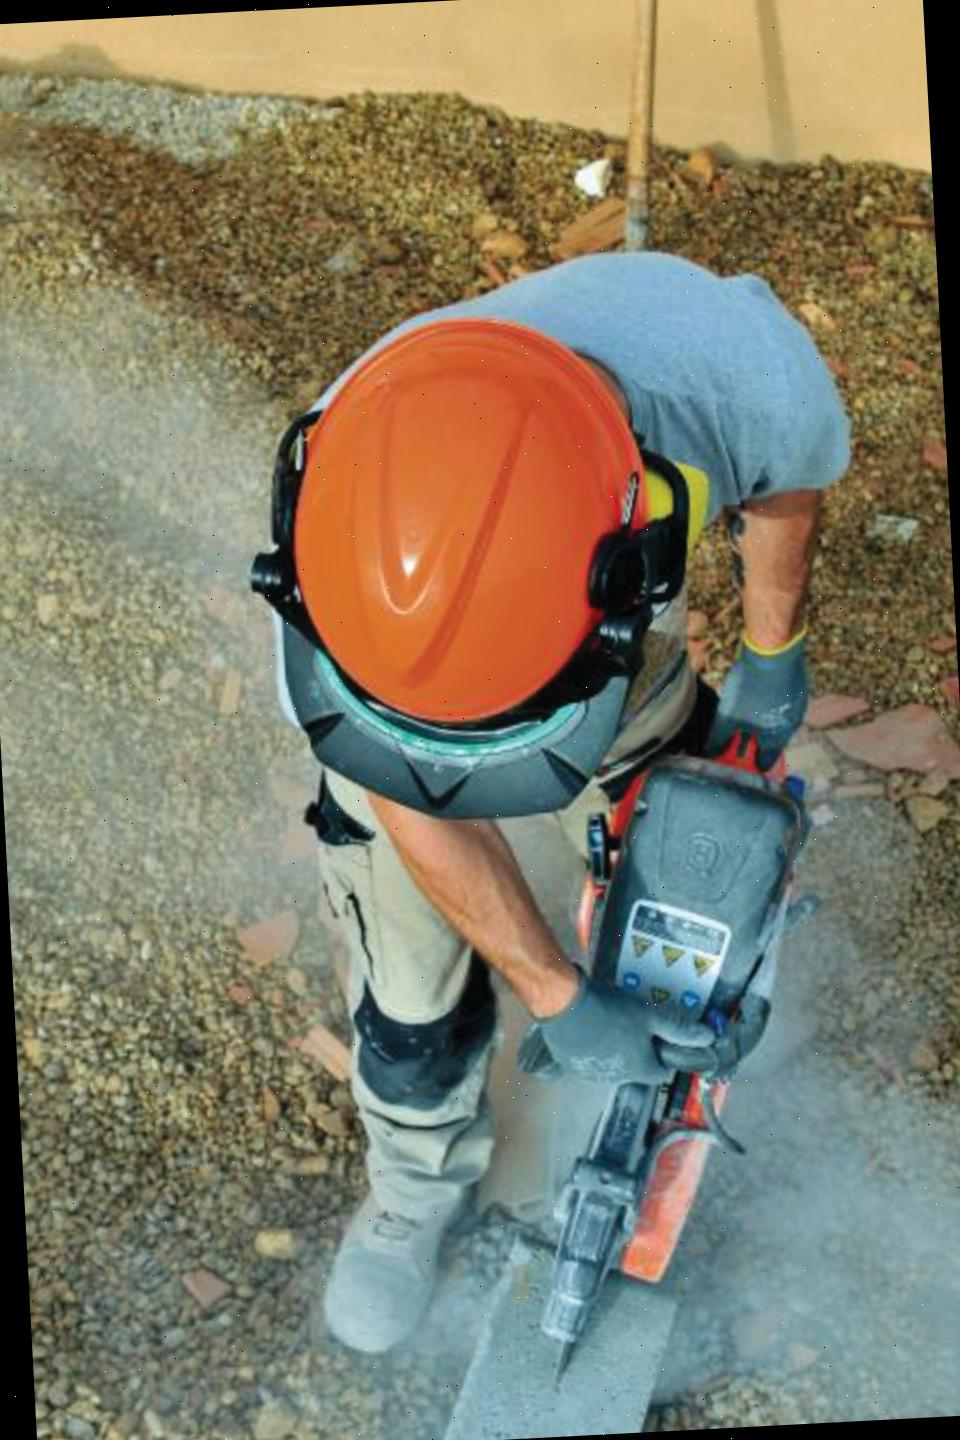helmet: (277, 315, 655, 750)
